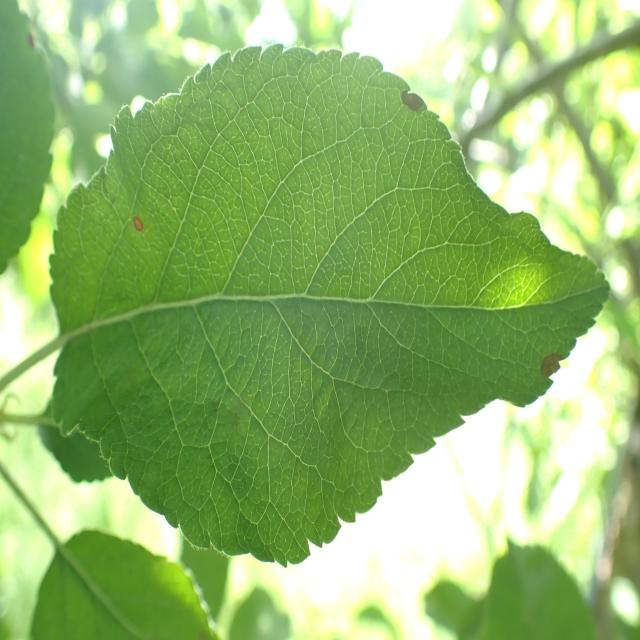Black Rot: (388, 66, 437, 142), (120, 190, 166, 270)
